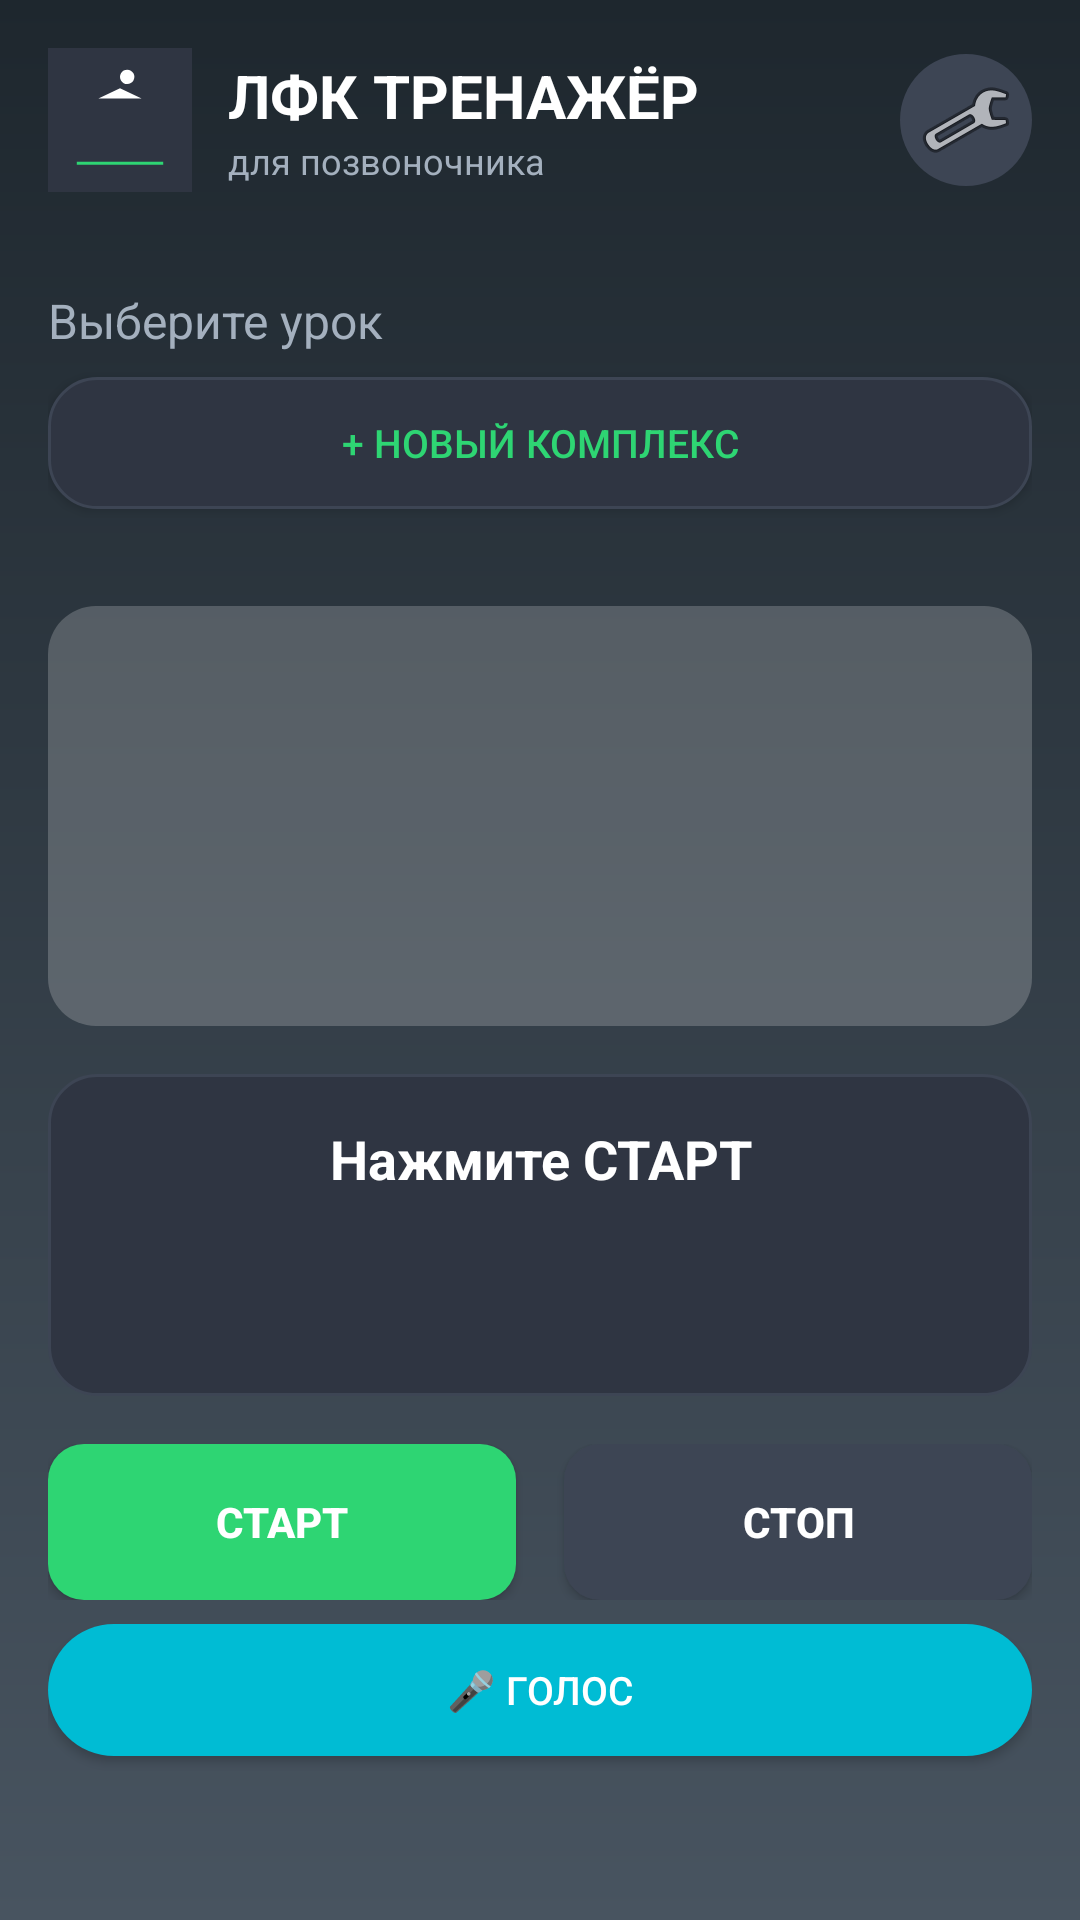

Point at icon controls on the screen. Image size 1080w x 1920h, points as (x=x, y=y).
Настройки: (x=966, y=120)
